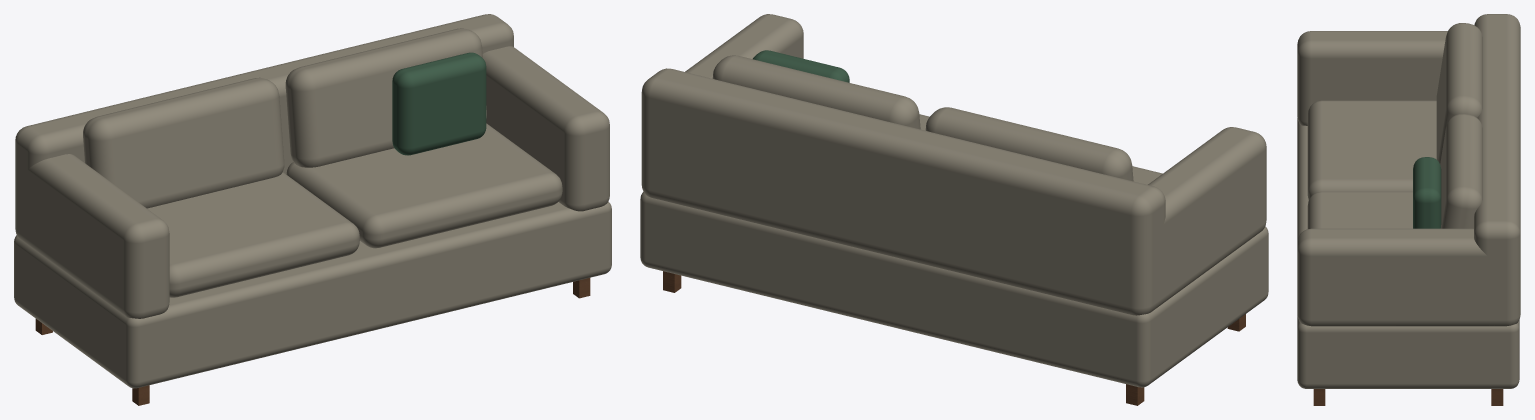
Rendered from noi-that-sofa.glb.
3 views of the same model, side by side, from view 1: azimuth 30°, elevation 25°; view 2: azimuth 150°, elevation 25°; view 3: azimuth 270°, elevation 25° (orthographic). The views are drawn at different scales.
Size of the model in its own units: 2.2 by 0.9393 by 0.955.
3 materials, 1 textured.
